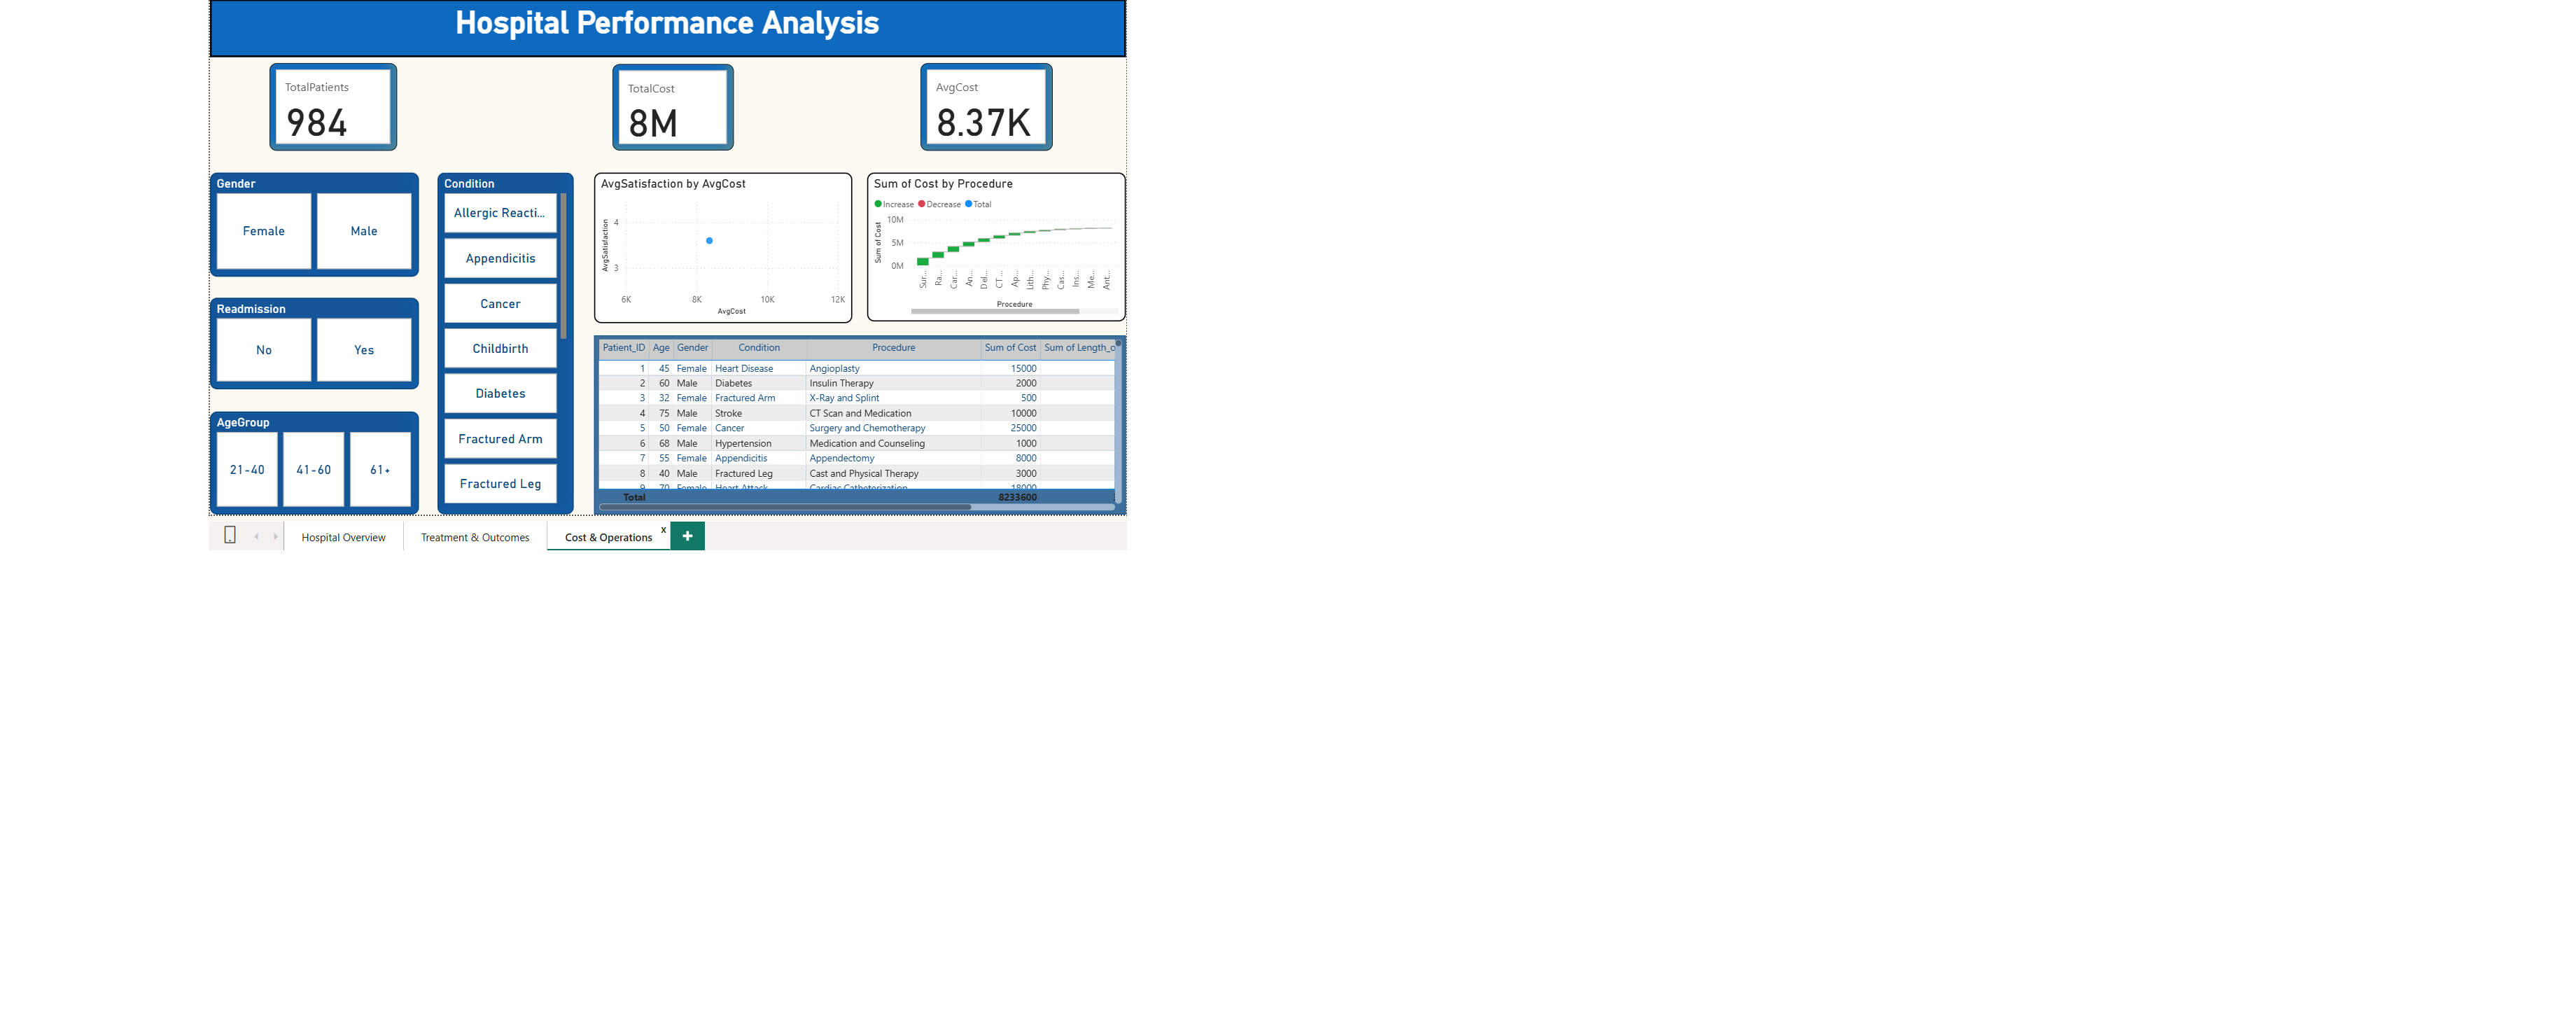

This screenshot's page, from the dashboard's own definition file:
{"tool":"powerbi","page":{"name":"Cost & Operations","canvas":[1280,720],"ordinal":2},"visuals":[{"type":"cardVisual","fields":{"Data":["HospitalData.TotalPatients"]},"box":[83.2,89.3,178.5,122.3],"z":0},{"type":"cardVisual","fields":{"Data":["HospitalData.TotalCost"]},"box":[562.5,90.5,170,121.1],"z":1000},{"type":"waterfallChart","fields":{"Category":["HospitalData.Procedure"],"Y":["Sum(HospitalData.Cost)"]},"box":[918.3,242.1,362,207.9],"z":2000},{"type":"scatterChart","fields":{"X":["HospitalData.AvgCost"],"Y":["HospitalData.AvgSatisfaction"]},"box":[536.8,242.1,360.7,210.3],"z":3000},{"type":"tableEx","fields":{"Values":["HospitalData.Patient_ID","HospitalData.Age","HospitalData.Gender","HospitalData.Condition","HospitalData.Procedure","Sum(HospitalData.Cost)","Sum(HospitalData.Length_of_Stay)","HospitalData.Readmission","HospitalData.Outcome","HospitalData.Satisfaction"]},"box":[536.8,469.6,743.5,250.7],"z":4000},{"type":"cardVisual","fields":{"Data":["Avg(HospitalData.AvgCost)"]},"box":[992.9,89.3,184.6,122.3],"z":5000},{"type":"advancedSlicerVisual","fields":{"Values":["HospitalData.AgeGroup"]},"box":[0,575.9,292.3,144.1],"z":6000},{"type":"advancedSlicerVisual","fields":{"Values":["HospitalData.Readmission"]},"box":[0,417.2,292.3,127.6],"z":7000},{"type":"advancedSlicerVisual","fields":{"Values":["HospitalData.Gender"]},"box":[0,241.5,292.3,145.5],"z":8000},{"type":"textbox","box":[0,0,1280.3,81],"z":9000},{"type":"advancedSlicerVisual","fields":{"Values":["HospitalData.Condition"]},"box":[317.5,242.5,190,477.5],"z":10000}]}

Visuals, with their boxes on the page's 1280x720 design canvas (x1, y1, x2, y2). These are canvas units, not pixel positions in the 2576x1011 screenshot, which may show the page scaled, cropped or inside an application window:
cardVisual - HospitalData.TotalPatients: (83,89,262,212)
cardVisual - HospitalData.TotalCost: (562,90,732,212)
waterfallChart - HospitalData.Procedure x Sum(HospitalData.Cost): (918,242,1280,450)
scatterChart - HospitalData.AvgCost x HospitalData.AvgSatisfaction: (537,242,898,452)
tableEx - HospitalData.Patient_ID x HospitalData.Age: (537,470,1280,720)
cardVisual - Avg(HospitalData.AvgCost): (993,89,1178,212)
advancedSlicerVisual - HospitalData.AgeGroup: (0,576,292,720)
advancedSlicerVisual - HospitalData.Readmission: (0,417,292,545)
advancedSlicerVisual - HospitalData.Gender: (0,242,292,387)
textbox: (0,0,1280,81)
advancedSlicerVisual - HospitalData.Condition: (318,242,508,720)
